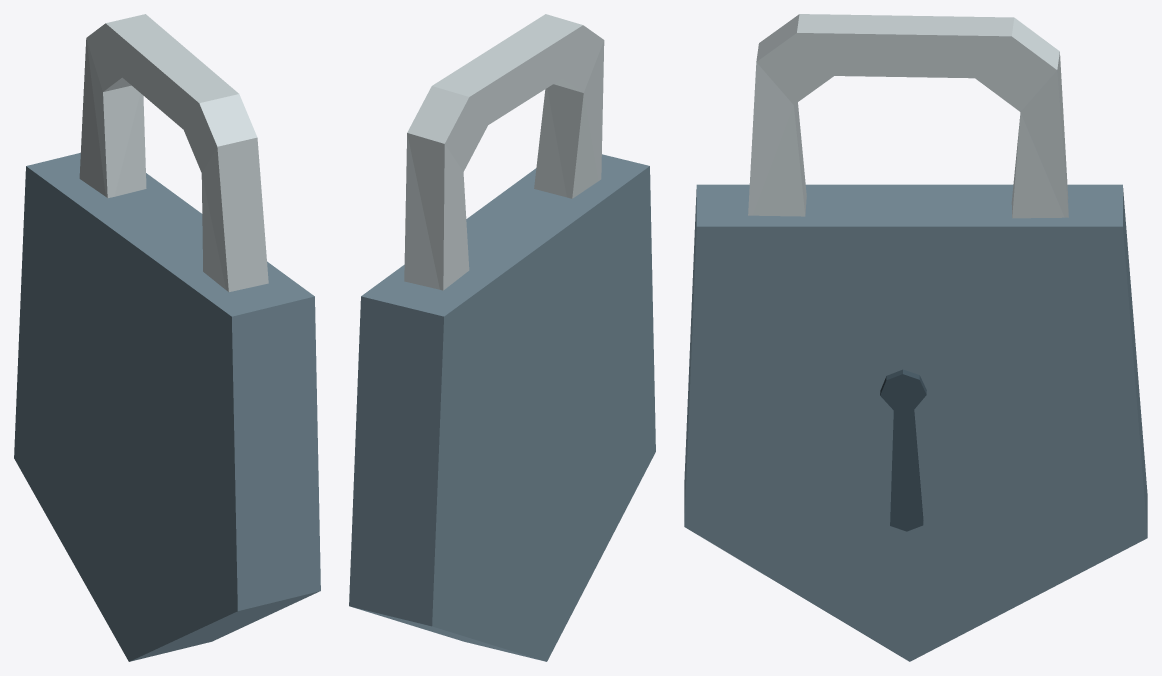
The model's file is lock.gltf.
The picture shows the model from 3 angles, left to right: view 1: azimuth 30°, elevation 25°; view 2: azimuth 150°, elevation 25°; view 3: azimuth 270°, elevation 25°; orthographic projection. The views are drawn at different scales.
Parts seen in each view (by area): view 1: group331019317, group871613733; view 2: group331019317, group871613733; view 3: group331019317, group871613733, group1013003272.
Part boxes in pixels (box(x1,y1,x2,y2)): group331019317: box(14, 153, 320, 661); group871613733: box(79, 14, 268, 291); group331019317: box(349, 154, 655, 661); group871613733: box(404, 14, 604, 290); group331019317: box(684, 184, 1147, 661); group871613733: box(748, 14, 1068, 218); group1013003272: box(880, 369, 926, 531).
Size of the model in its own units: 0.0905 by 0.5481 by 0.3731.
